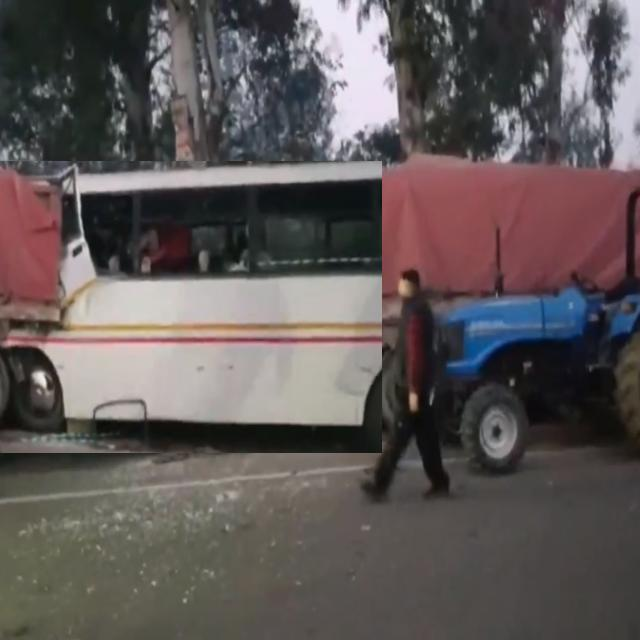bus: (0, 162, 382, 453)
truck: (435, 188, 640, 472)
